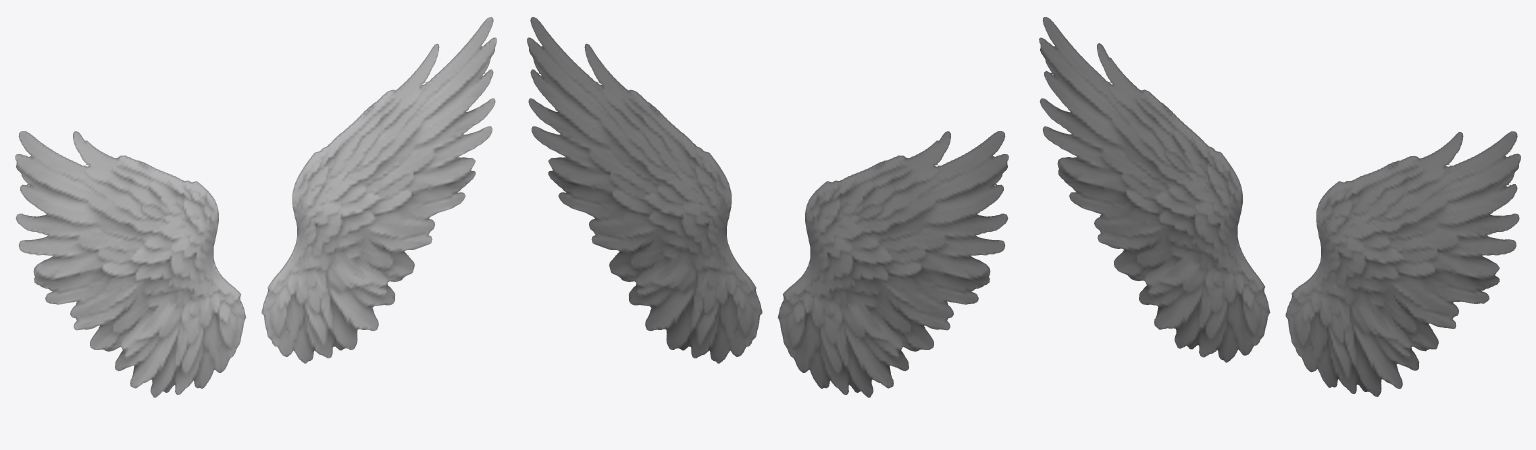
File: imp_angel_wings.glb
The picture shows the model from 3 angles, left to right: view 1: azimuth 30°, elevation 25°; view 2: azimuth 150°, elevation 25°; view 3: azimuth 330°, elevation 25°; orthographic projection.
Visible parts, largest first — view 1: imp_angel_wings; view 2: imp_angel_wings; view 3: imp_angel_wings.
Part boxes in pixels (x1,y1,x2,y2): imp_angel_wings: (15, 17, 496, 397); imp_angel_wings: (527, 17, 1008, 397); imp_angel_wings: (1039, 17, 1520, 396).
Bounding box in the file's own units: 1.38 × 0.8267 × 0.00106.
1 material, 1 textured.
